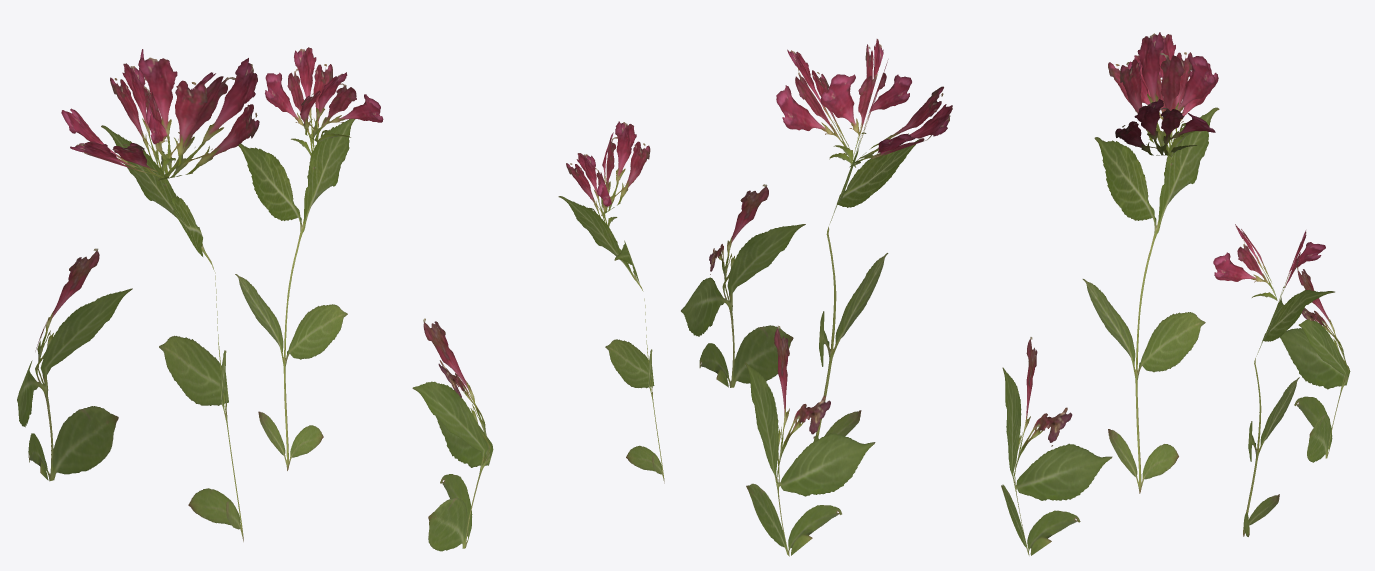
File: SM_Flower_01a.fbx
3 views of the same model, side by side, from view 1: azimuth 30°, elevation 25°; view 2: azimuth 150°, elevation 25°; view 3: azimuth 270°, elevation 25° (orthographic). The views are drawn at different scales.
Visible parts, largest first — view 1: SM_Flower_01a_LOD0; view 2: SM_Flower_01a_LOD0; view 3: SM_Flower_01a_LOD0.
Boxes of the visible parts, x1=… form: SM_Flower_01a_LOD0: x1=17, y1=47, x2=493, y2=551; SM_Flower_01a_LOD0: x1=558, y1=39, x2=952, y2=556; SM_Flower_01a_LOD0: x1=1001, y1=32, x2=1350, y2=555.
Bounding box in the file's own units: 58.39 × 55.78 × 71.47.
